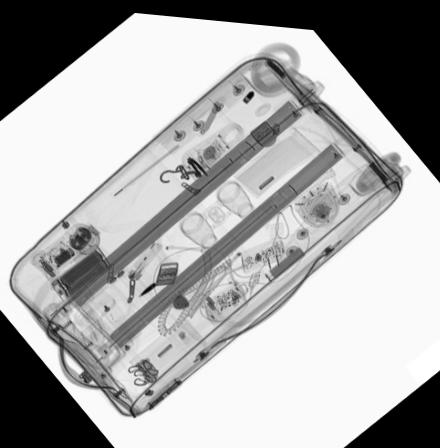Lighter: (125, 238, 163, 278)
